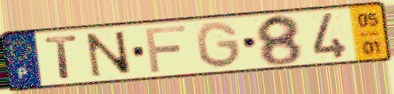4: (311, 10, 350, 61)
8: (253, 13, 306, 68)
F: (143, 23, 190, 74)
G: (194, 20, 244, 70)
N: (83, 30, 135, 79)
T: (42, 33, 81, 81)
